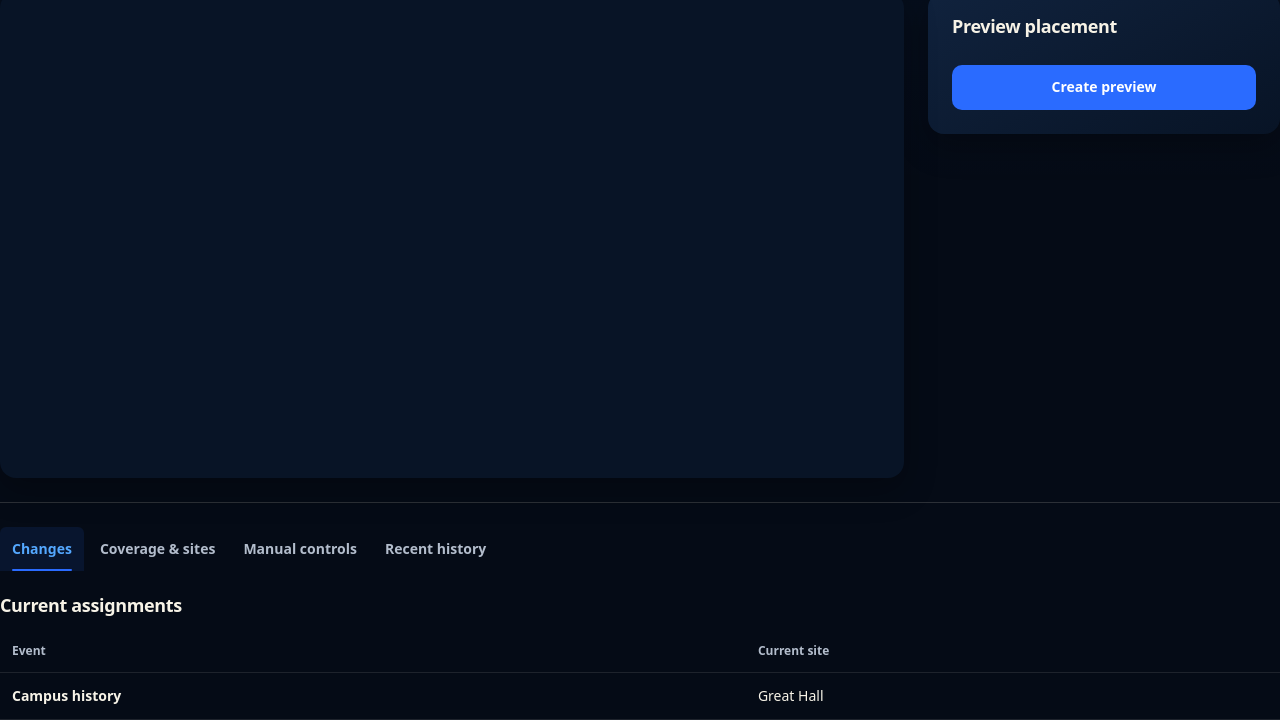
Test: event placement recovery coverage › rejects a fractional override duration before opening confirmation
(page scrolled)
Click the tab "Manual controls".
click(300, 549)  # box 231,527 -> 369,571
(page scrolled)
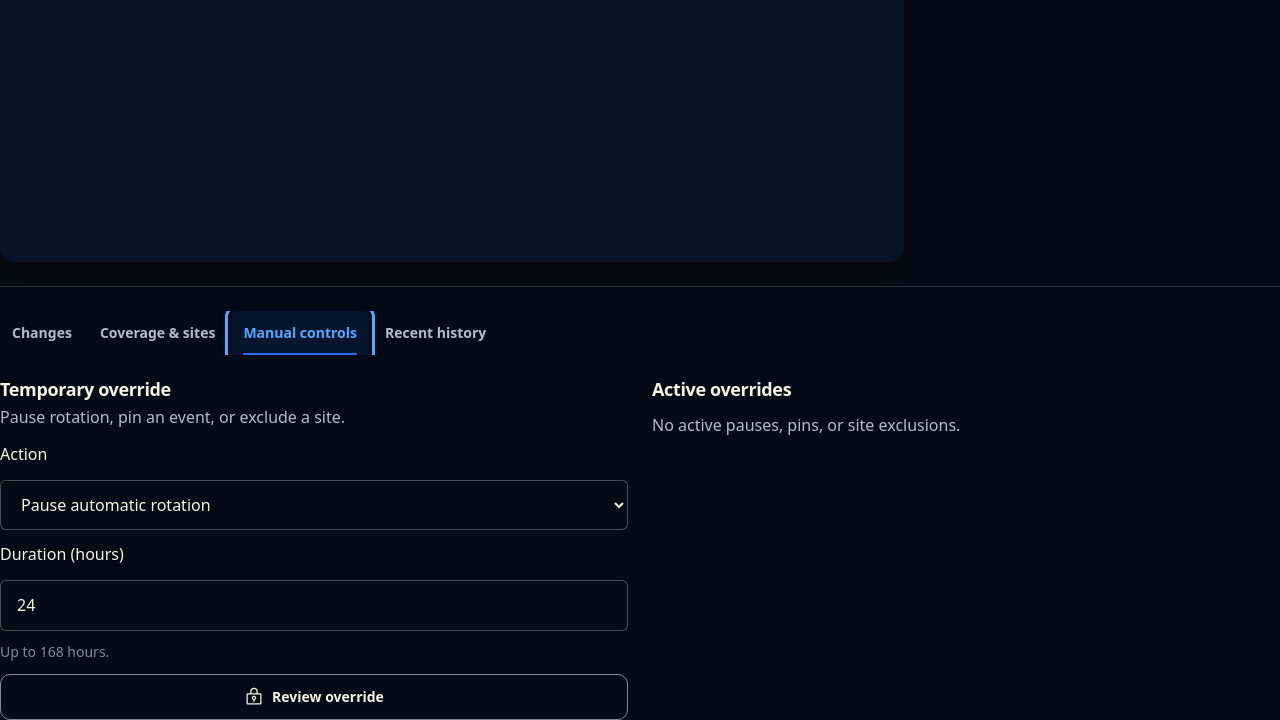
Replace the text in the number field labelled "Duration (hours)" with "0.5" at (314, 605), box 0,580 -> 628,631
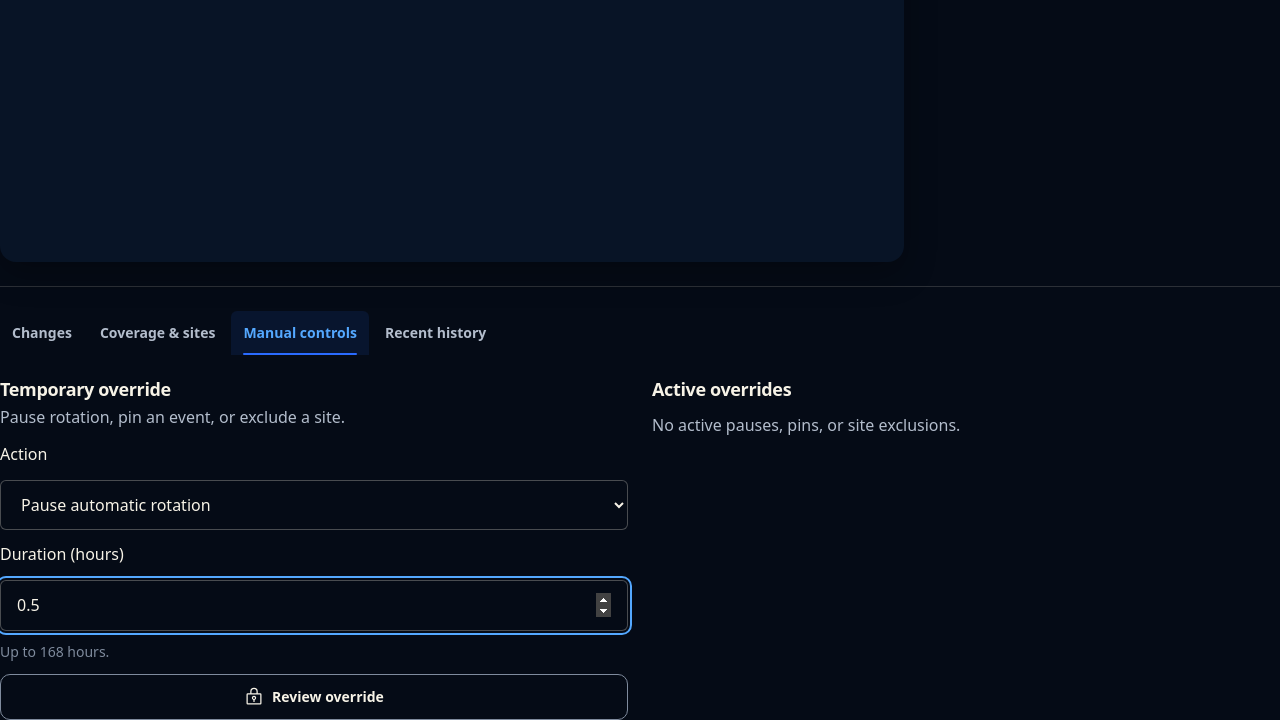
Click the button "Review override".
click(314, 697)  # box 0,674 -> 628,719
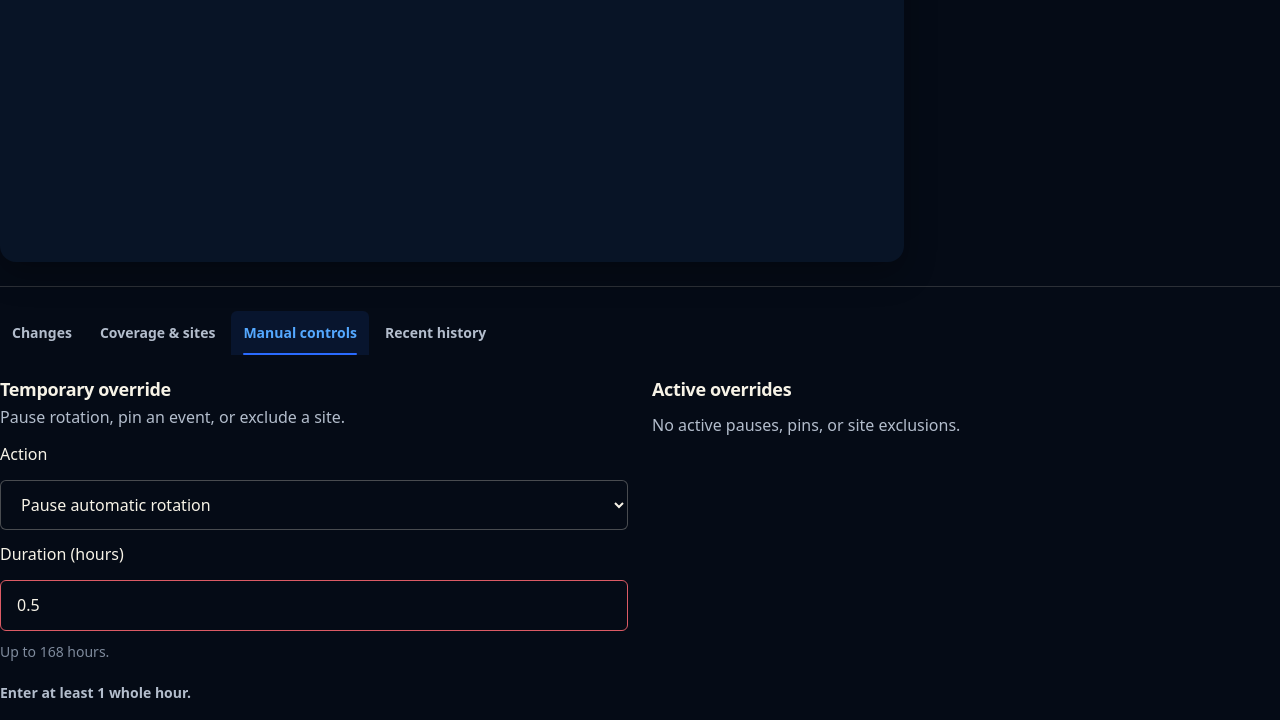
Expected: the text "Enter at least 1 whole hour." is shown, 0,683 -> 191,702
